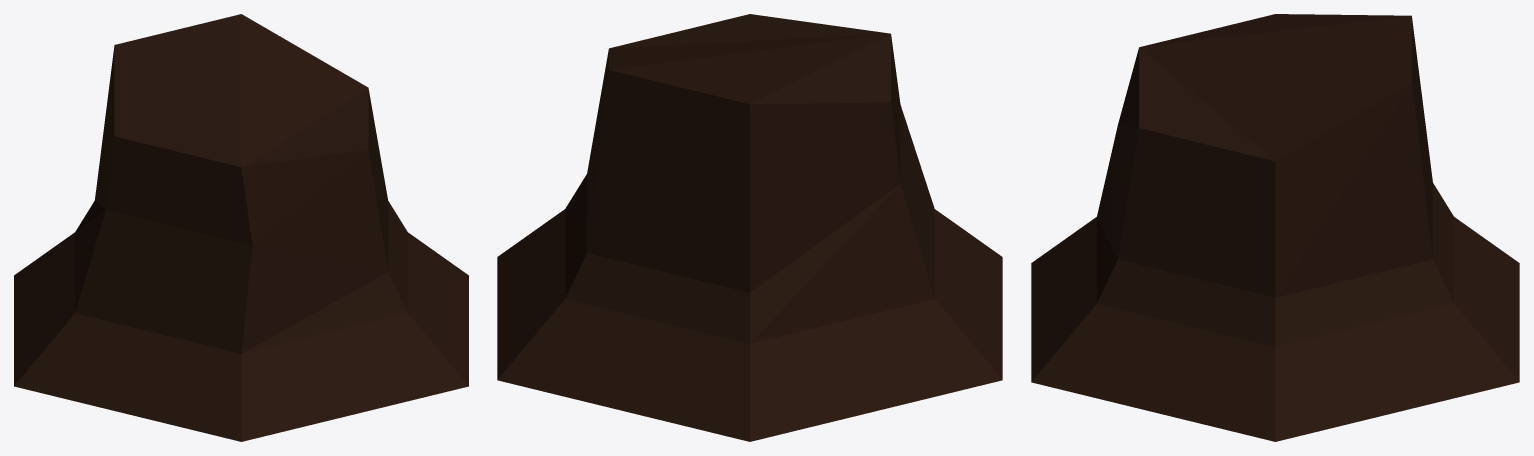
The model's file is kok_03.FBX.
3 renders of one model, left to right at view 1: azimuth 30°, elevation 25°; view 2: azimuth 150°, elevation 25°; view 3: azimuth 270°, elevation 25°, orthographic. The views are drawn at different scales.
Visible parts, largest first — view 1: Cylinder002; view 2: Cylinder002; view 3: Cylinder002.
Part boxes in pixels (x1,y1,x2,y2): Cylinder002: (14, 14, 468, 441); Cylinder002: (497, 14, 1002, 441); Cylinder002: (1031, 14, 1519, 441).
Bounding box in the file's own units: 50.66 × 27.13 × 43.87.
